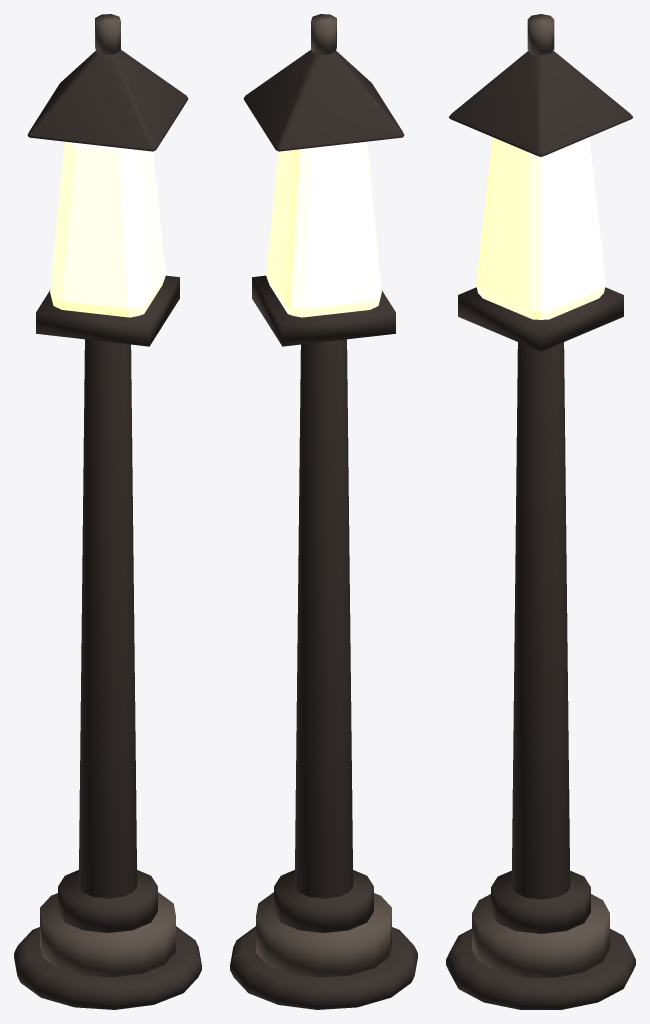
File: cafe-lamp.glb
3 views of the same model, side by side, from view 1: azimuth 30°, elevation 25°; view 2: azimuth 150°, elevation 25°; view 3: azimuth 270°, elevation 25° (orthographic).
Visible parts, largest first — view 1: cafe lamp post, cafe lamp glass; view 2: cafe lamp post, cafe lamp glass; view 3: cafe lamp post, cafe lamp glass.
Boxes of the visible parts, x1,y1,x2,y2 form: cafe lamp post: [14, 14, 201, 1009]; cafe lamp glass: [50, 141, 165, 317]; cafe lamp post: [230, 14, 417, 1009]; cafe lamp glass: [266, 141, 381, 317]; cafe lamp post: [446, 14, 635, 1009]; cafe lamp glass: [476, 137, 605, 319].
Size of the model in its own units: 0.39 by 2.22 by 0.4.
